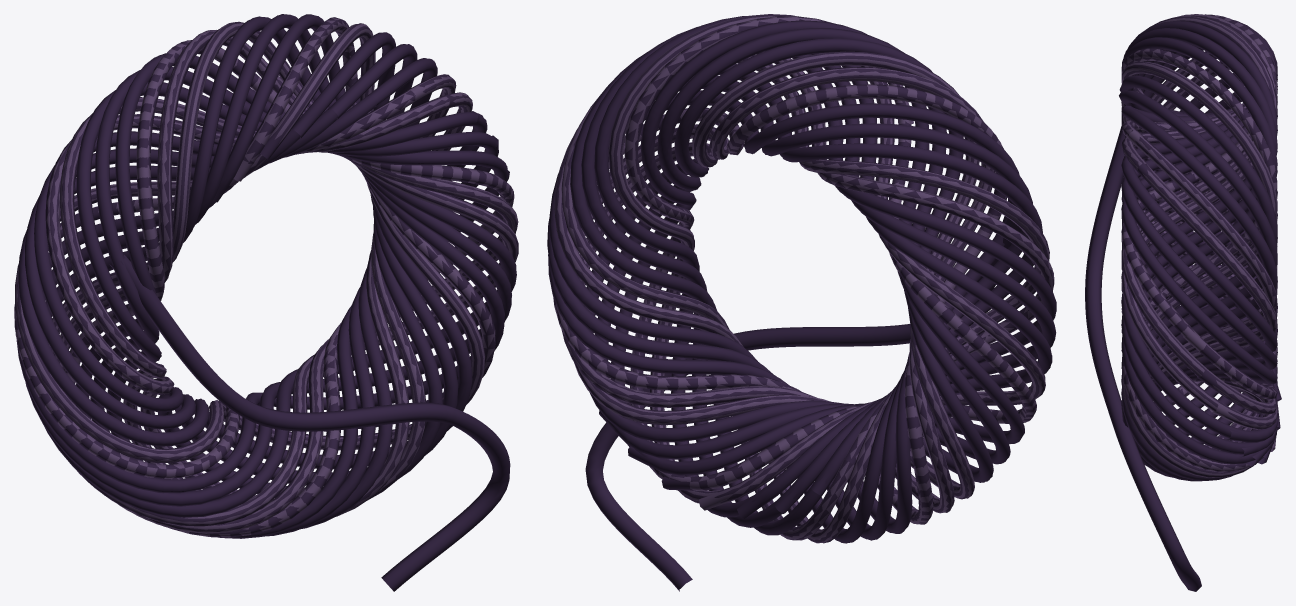
File: void_thread.glb
The picture shows the model from 3 angles, left to right: view 1: azimuth 30°, elevation 25°; view 2: azimuth 150°, elevation 25°; view 3: azimuth 270°, elevation 25°; orthographic projection. The views are drawn at different scales.
Visible parts, largest first — view 1: Purple-black spirit silk, Violet silk filaments; view 2: Purple-black spirit silk, Violet silk filaments; view 3: Purple-black spirit silk, Violet silk filaments.
Part boxes in pixels (bbox=[...]): Purple-black spirit silk: bbox=[14, 14, 518, 591]; Violet silk filaments: bbox=[14, 17, 518, 537]; Purple-black spirit silk: bbox=[547, 14, 1056, 591]; Violet silk filaments: bbox=[553, 14, 1054, 543]; Purple-black spirit silk: bbox=[1085, 14, 1281, 591]; Violet silk filaments: bbox=[1121, 14, 1277, 477].
Bounding box in the file's own units: 0.0844 × 0.1001 × 0.0354.
